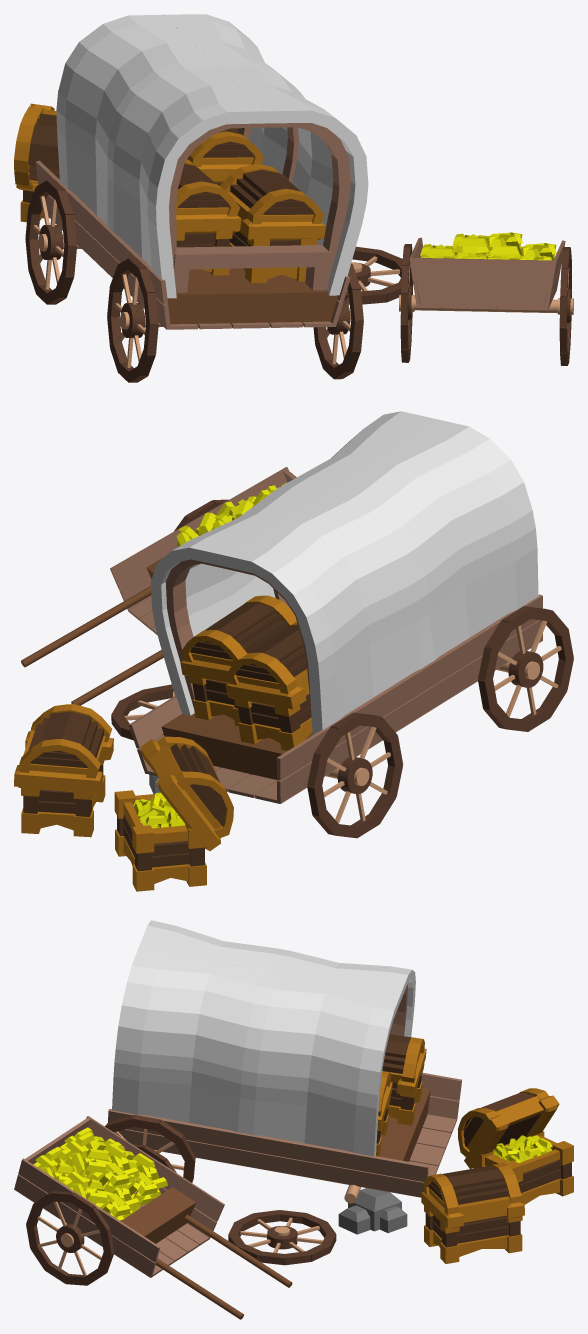
The model's file is Schatz.fbx.
The picture shows the model from 3 angles, top to bottom: view 1: azimuth 30°, elevation 25°; view 2: azimuth 150°, elevation 25°; view 3: azimuth 270°, elevation 25°; orthographic projection. The views are drawn at different scales.
Visible parts, largest first — view 1: Cylinder.003; view 2: Cylinder.003; view 3: Cylinder.003.
Part boxes in pixels (x1=…): Cylinder.003: x1=14, y1=14, x2=573, y2=382; Cylinder.003: x1=14, y1=411, x2=573, y2=891; Cylinder.003: x1=14, y1=920, x2=573, y2=1319.
Bounding box in the file's own units: 756 × 436 × 925.
